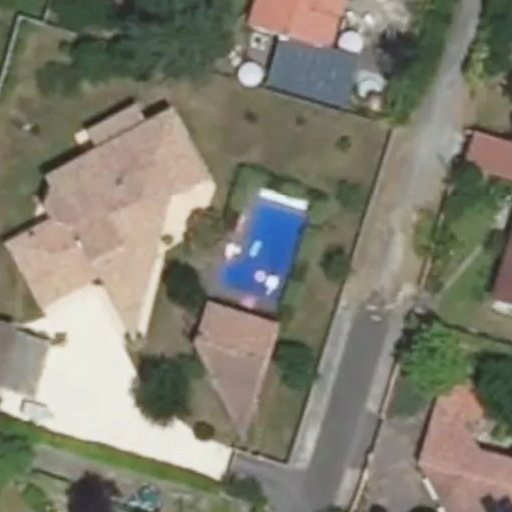pool: (215, 194, 311, 300)
